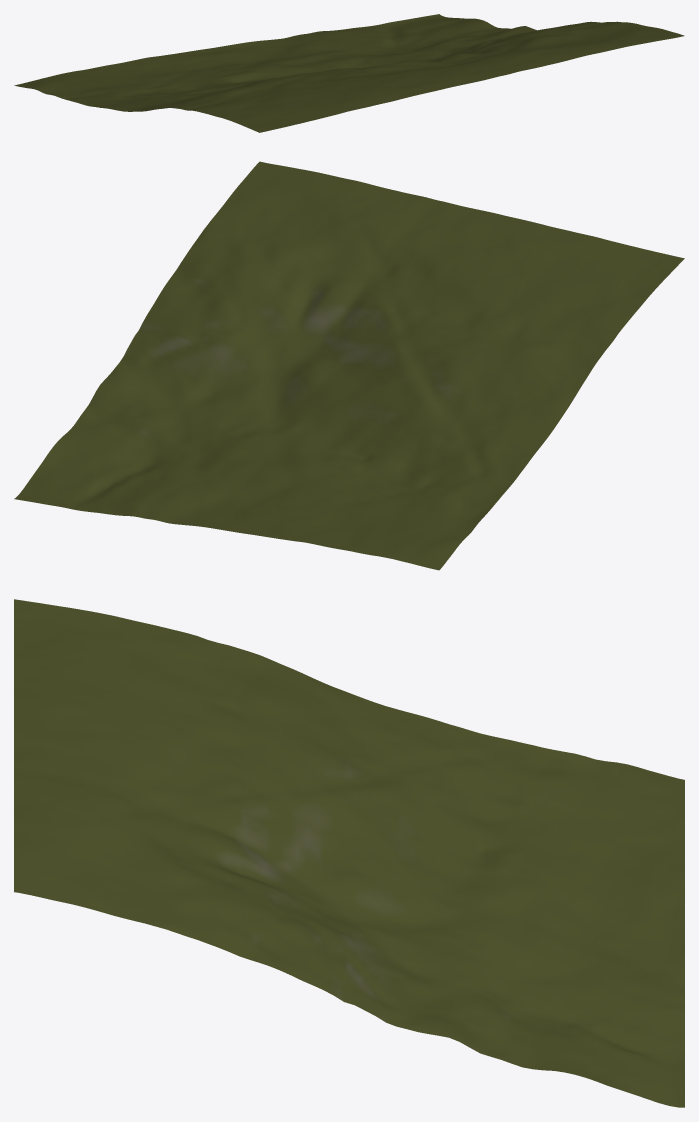
Rendered from terrain_15_-9.glb.
3 renders of one model, top to bottom at view 1: azimuth 30°, elevation 25°; view 2: azimuth 150°, elevation 25°; view 3: azimuth 270°, elevation 25°, orthographic. The views are drawn at different scales.
Parts seen in each view (by area): view 1: terrain_15_-9; view 2: terrain_15_-9; view 3: terrain_15_-9.
Part boxes in pixels (box(x1,y1,x2,y2)): terrain_15_-9: box(14, 14, 684, 132); terrain_15_-9: box(14, 161, 684, 570); terrain_15_-9: box(14, 599, 684, 1107).
Bounding box in the file's own units: 256 × 94.69 × 256.
